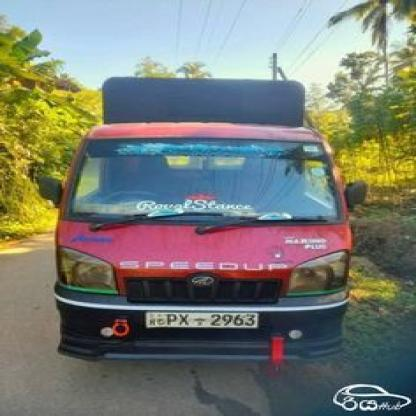Lorry front: (39, 69, 368, 371)
number plate: (145, 310, 258, 331)
